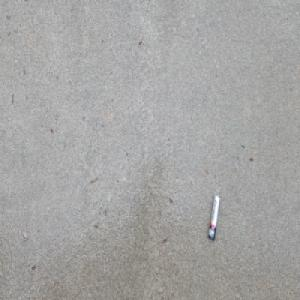Battery: (206, 191, 220, 240)
